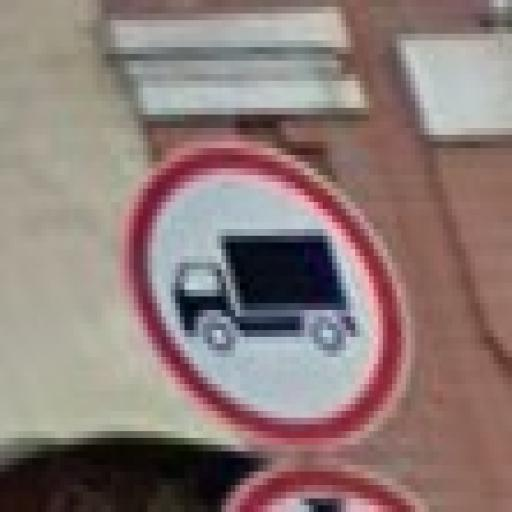traffic_sign: (121, 143, 411, 453)
